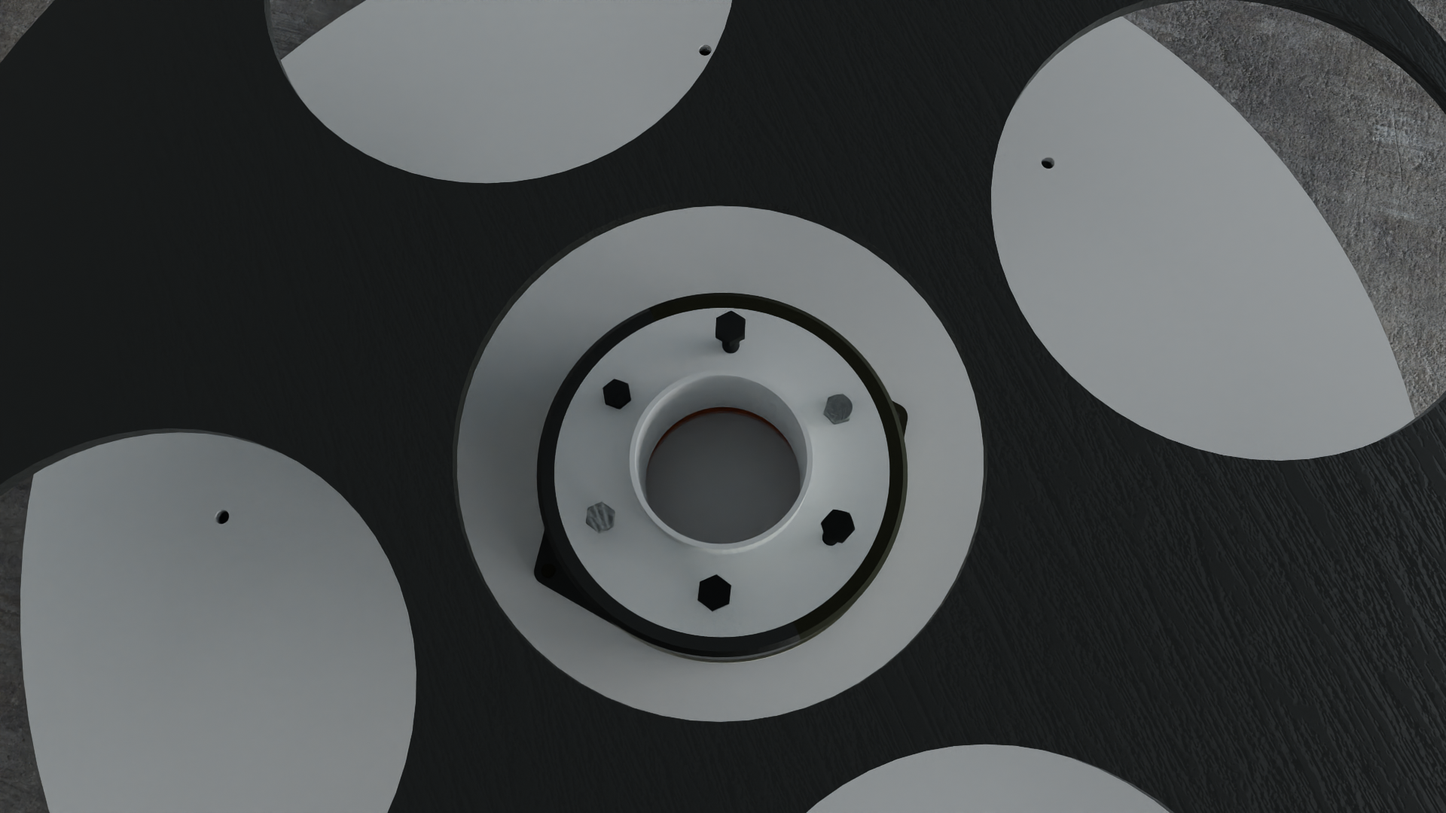bolt: (697, 574, 731, 611), (822, 510, 855, 542), (715, 311, 746, 343), (586, 501, 614, 532), (824, 394, 854, 422), (602, 379, 630, 407)
